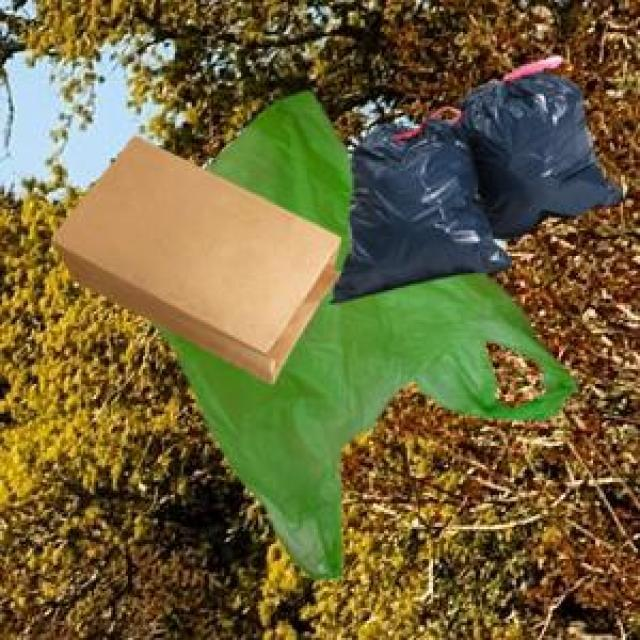miscellaneous trash: (326, 53, 619, 299)
paper: (47, 132, 337, 380)
